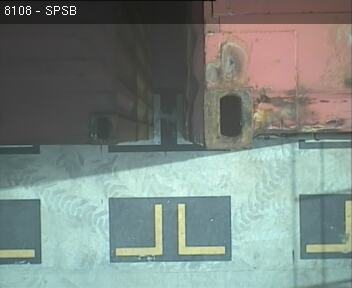groundmarker_1: (114, 202, 226, 257), (115, 93, 193, 144)
